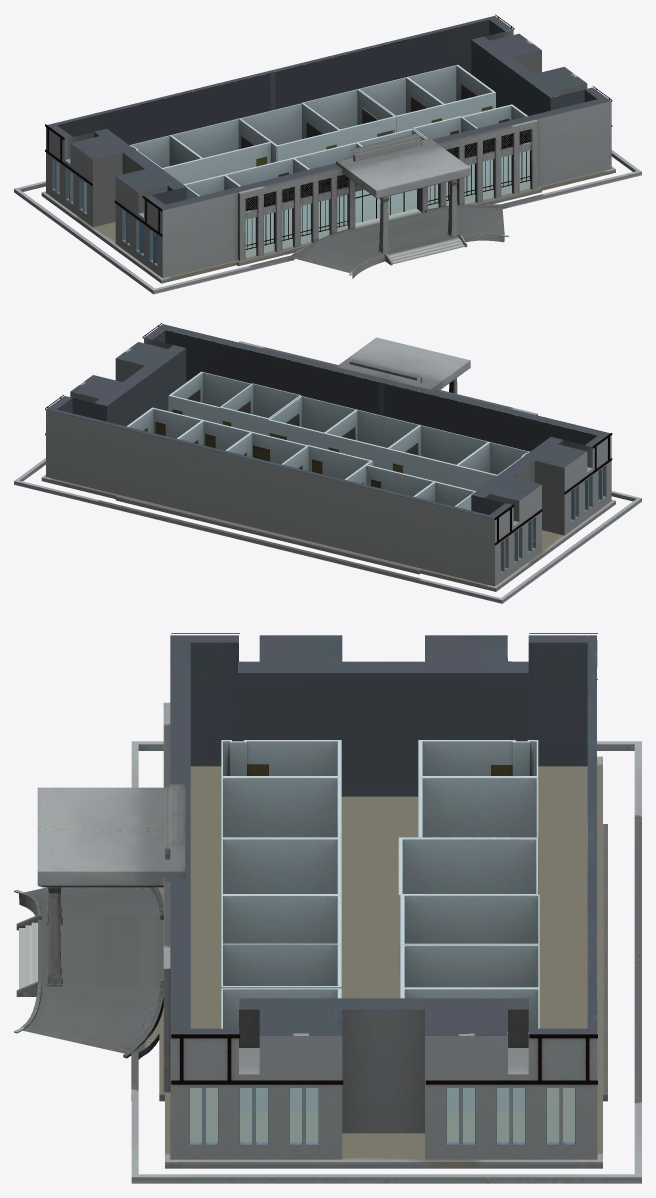
3 views of the same model, one above another, from view 1: azimuth 30°, elevation 25°; view 2: azimuth 150°, elevation 25°; view 3: azimuth 270°, elevation 25° (orthographic). The views are drawn at different scales.
Visible parts, largest first — view 1: floor_1_0, room_11_12, room_10_11, room_09_10, room_07_8, room_08_9, room_12_13, room_05_6, room_04_5, room_02_3, room_01_2, room_06_7 (+1 smaller); view 2: floor_1_0, room_05_6, room_04_5, room_03_4, room_01_2, room_02_3, room_06_7, room_10_11, room_11_12, room_09_10, room_07_8, room_08_9 (+1 smaller); view 3: floor_1_0, room_10_11, room_11_12, room_05_6, room_09_10, room_04_5, room_08_9, room_03_4, room_02_3, room_12_13, room_06_7, room_07_8 (+1 smaller).
Part boxes in pixels (<box>): floor_1_0: <box>14,14,641,294</box>; room_11_12: <box>170,118,277,179</box>; room_10_11: <box>239,103,340,161</box>; room_09_10: <box>302,89,395,145</box>; room_07_8: <box>407,64,495,119</box>; room_08_9: <box>358,77,444,132</box>; room_12_13: <box>130,135,203,184</box>; room_05_6: <box>224,158,324,239</box>; room_04_5: <box>293,142,388,224</box>; room_02_3: <box>412,116,492,194</box>; room_01_2: <box>462,104,529,181</box>; room_06_7: <box>183,174,254,243</box>; floor_1_0: <box>14,323,641,603</box>; room_05_6: <box>387,425,488,486</box>; room_04_5: <box>324,409,419,469</box>; room_03_4: <box>268,396,356,448</box>; room_01_2: <box>168,371,251,423</box>; room_02_3: <box>219,383,301,435</box>; room_06_7: <box>456,442,529,490</box>; room_10_11: <box>282,445,371,479</box>; room_11_12: <box>346,460,434,496</box>; room_09_10: <box>227,432,307,464</box>; room_07_8: <box>126,407,202,438</box>; room_08_9: <box>178,420,251,450</box>; floor_1_0: <box>14,633,641,1183</box>; room_10_11: <box>398,838,537,973</box>; room_11_12: <box>399,777,538,894</box>; room_05_6: <box>221,777,341,838</box>; room_09_10: <box>400,894,539,944</box>; room_04_5: <box>221,838,341,894</box>; room_08_9: <box>400,945,539,988</box>; room_03_4: <box>221,895,341,943</box>; room_02_3: <box>221,943,341,988</box>; room_12_13: <box>418,740,538,776</box>; room_06_7: <box>221,740,341,776</box>; room_07_8: <box>400,988,539,1112</box>.
Size of the model in its own units: 0.4681 by 0.0796 by 0.285.
26 materials, 25 textured.
